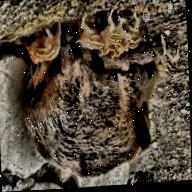boar: (15, 17, 162, 184)
